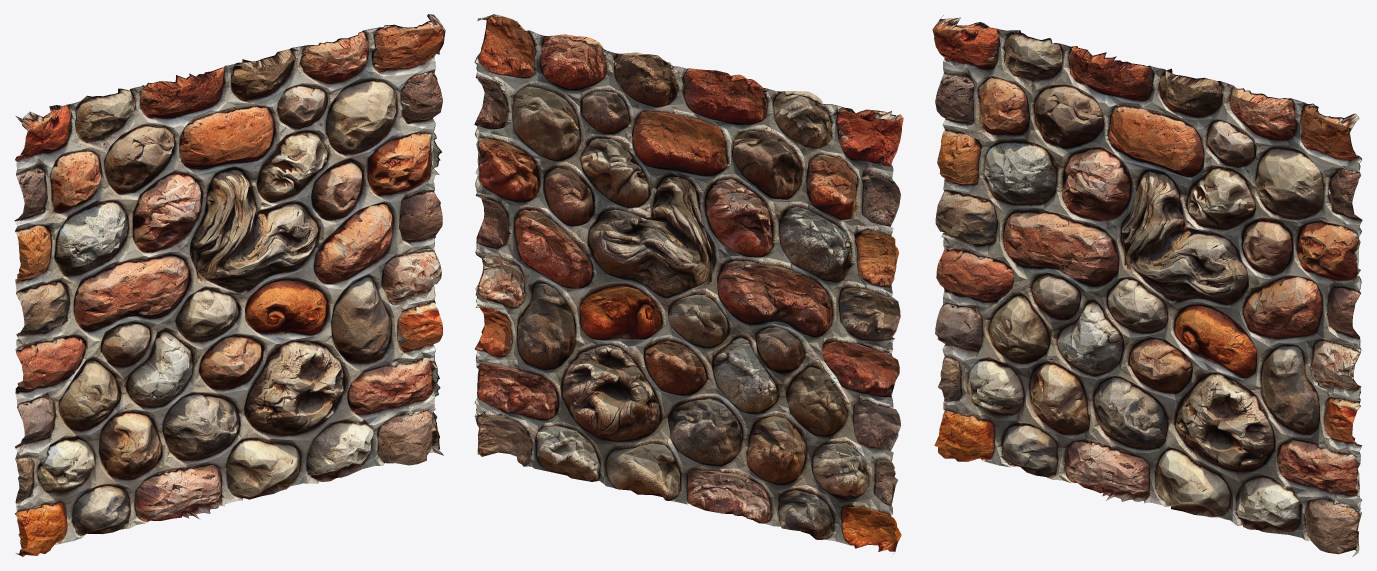
The model's file is Odd_Brickwall_1_new.glb.
3 views of the same model, side by side, from view 1: azimuth 30°, elevation 25°; view 2: azimuth 150°, elevation 25°; view 3: azimuth 330°, elevation 25° (orthographic).
Parts seen in each view (by area): view 1: Plane.002; view 2: Plane.002; view 3: Plane.002.
Part boxes in pixels (x1,y1,x2,y2): Plane.002: (14, 14, 445, 556); Plane.002: (474, 14, 903, 551); Plane.002: (932, 15, 1362, 556).
Bounding box in the file's own units: 2.01 × 2.01 × 0.1302.
Materials: 1 (1 with a texture image).
